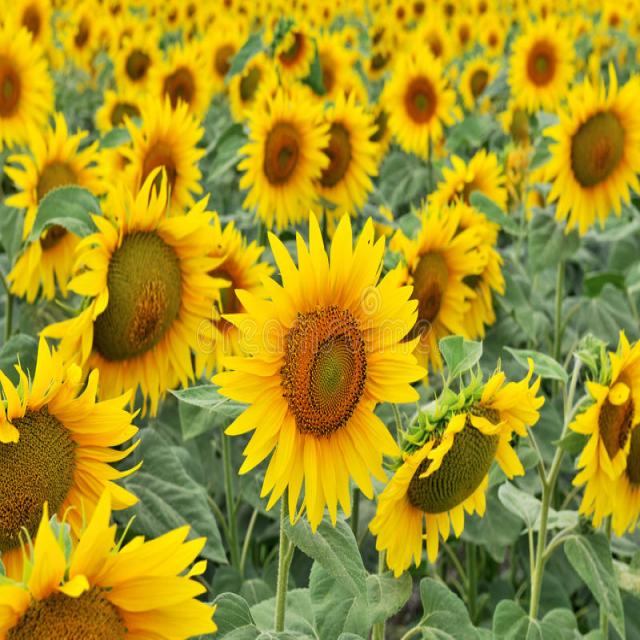sunflower: (210, 215, 420, 520), (54, 168, 246, 480), (372, 352, 536, 580), (0, 486, 227, 636), (0, 334, 135, 572), (517, 64, 640, 228), (234, 80, 327, 247), (370, 44, 444, 162), (146, 42, 222, 138), (504, 21, 580, 108)
